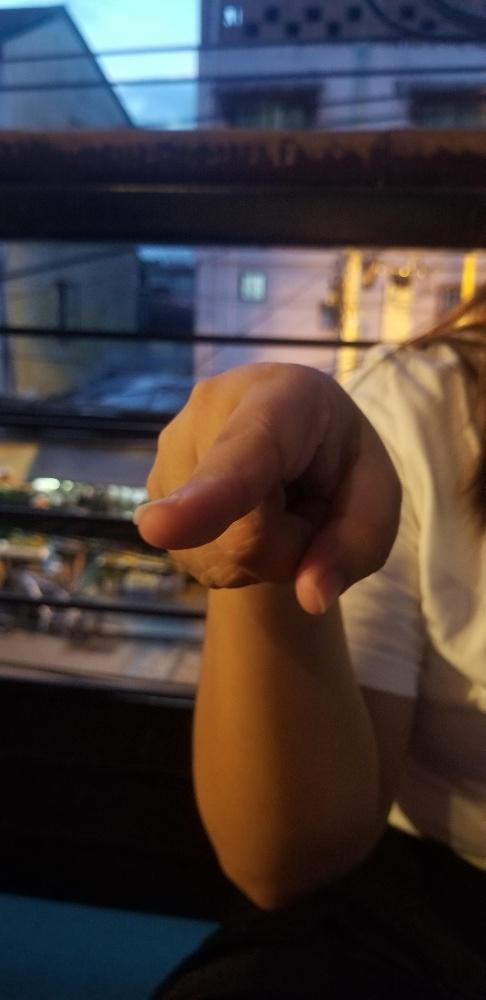z: (123, 358, 405, 619)
